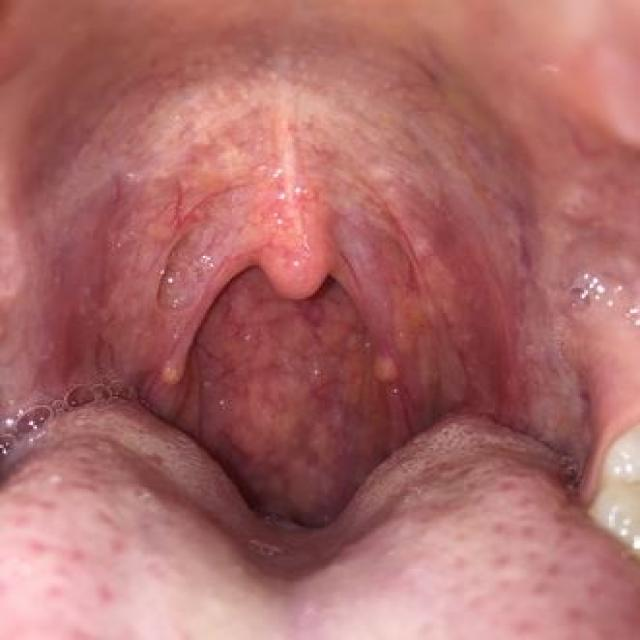Non Pharyngitis: (427, 172, 640, 498), (25, 170, 266, 414)
